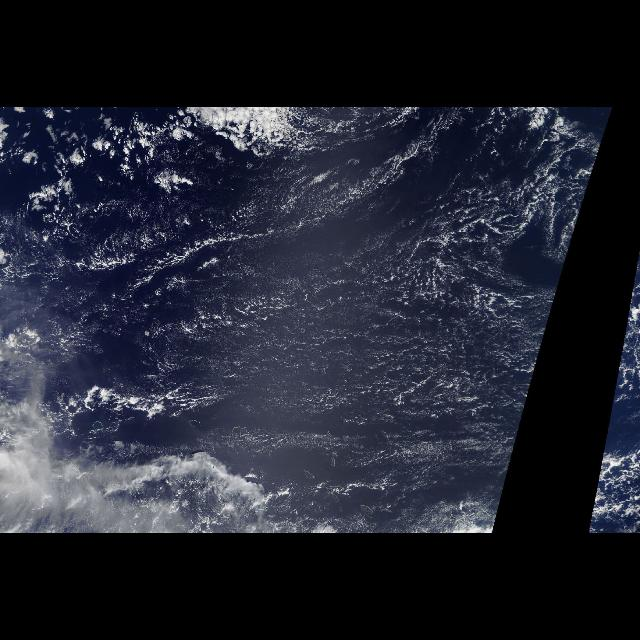Sugar: (62, 144, 540, 463)
